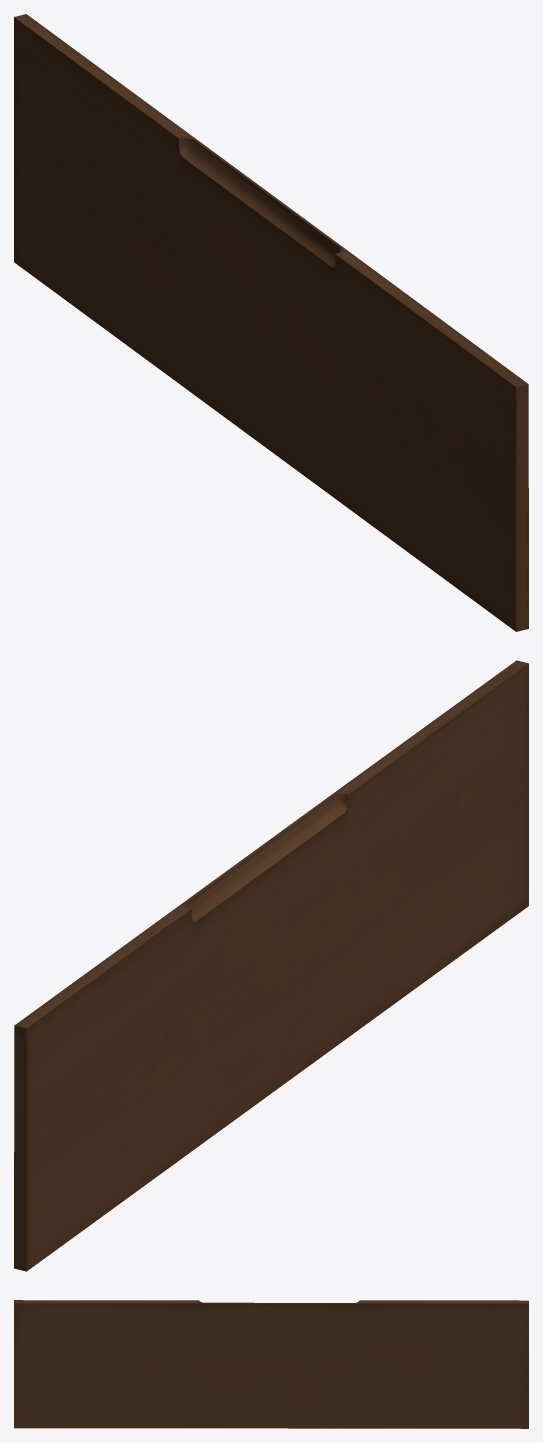
File: SM_Cabinets_A1_Door.fbx
The picture shows the model from 3 angles, top to bottom: view 1: azimuth 30°, elevation 25°; view 2: azimuth 150°, elevation 25°; view 3: azimuth 270°, elevation 25°; orthographic projection. The views are drawn at different scales.
Parts seen in each view (by area): view 1: SM_Cabinets_A1_Door; view 2: SM_Cabinets_A1_Door; view 3: SM_Cabinets_A1_Door.
Boxes of the visible parts, x1,y1,x2,y2 form: SM_Cabinets_A1_Door: [14, 14, 528, 631]; SM_Cabinets_A1_Door: [14, 660, 528, 1271]; SM_Cabinets_A1_Door: [14, 1300, 528, 1428].
Size of the model in its own units: 2.46 by 143 by 38.42.
Materials: 1 (1 with a texture image).
